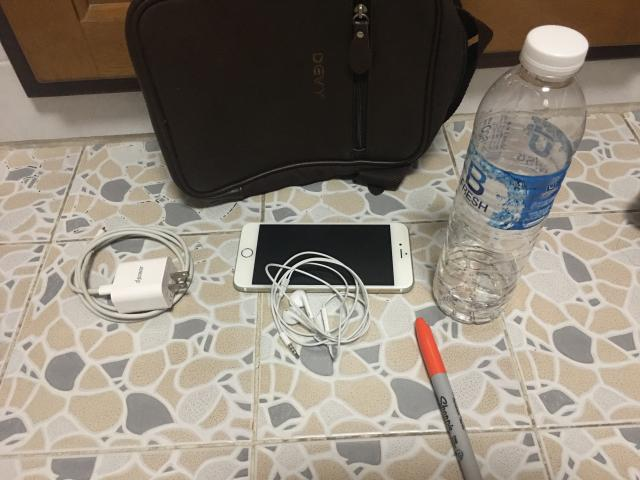Mobile phone: (234, 222, 414, 294)
Pen: (415, 318, 482, 480)
bottle: (434, 26, 588, 324)
wire: (68, 226, 194, 322), (266, 251, 370, 360)
